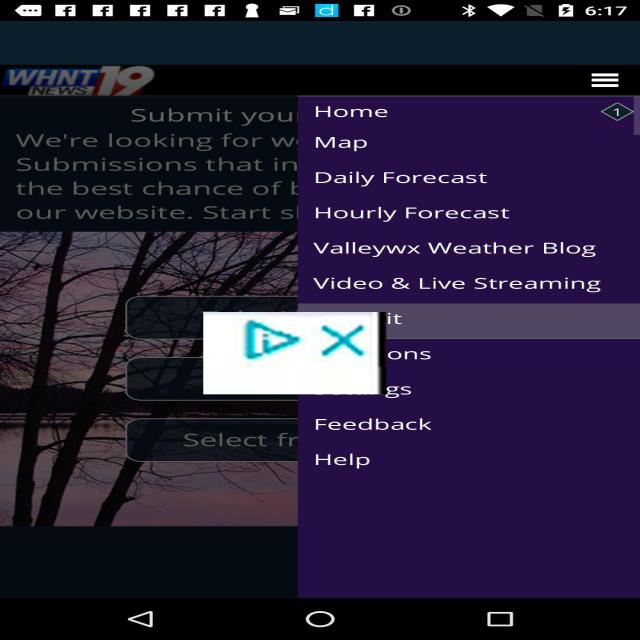sneaking: (204, 312, 386, 394)
